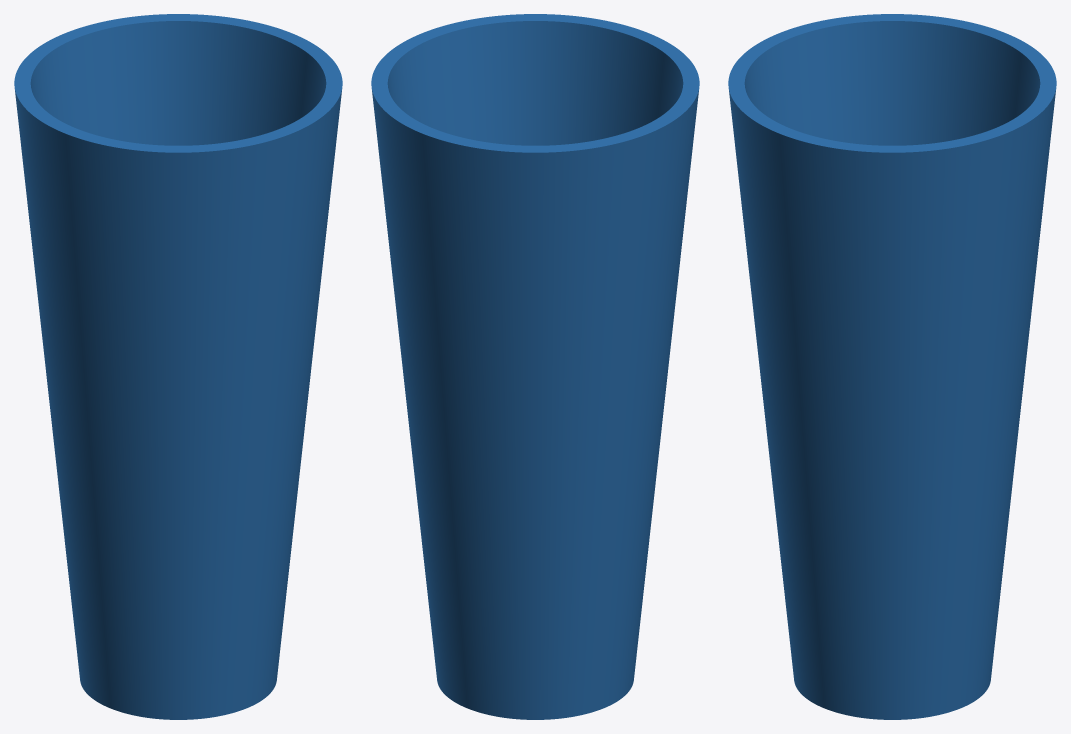
The model's file is glass.glb.
3 views of the same model, side by side, from view 1: azimuth 30°, elevation 25°; view 2: azimuth 150°, elevation 25°; view 3: azimuth 270°, elevation 25° (orthographic).
Parts seen in each view (by area): view 1: b0b95835-5581-49db-b666-aab53459e5f4; view 2: b0b95835-5581-49db-b666-aab53459e5f4; view 3: b0b95835-5581-49db-b666-aab53459e5f4.
Boxes of the visible parts, left/top/right/bottom form: b0b95835-5581-49db-b666-aab53459e5f4: left=14, top=14, right=342, bottom=719; b0b95835-5581-49db-b666-aab53459e5f4: left=371, top=14, right=699, bottom=719; b0b95835-5581-49db-b666-aab53459e5f4: left=728, top=14, right=1056, bottom=719.
Size of the model in its own units: 100 by 200 by 100.
